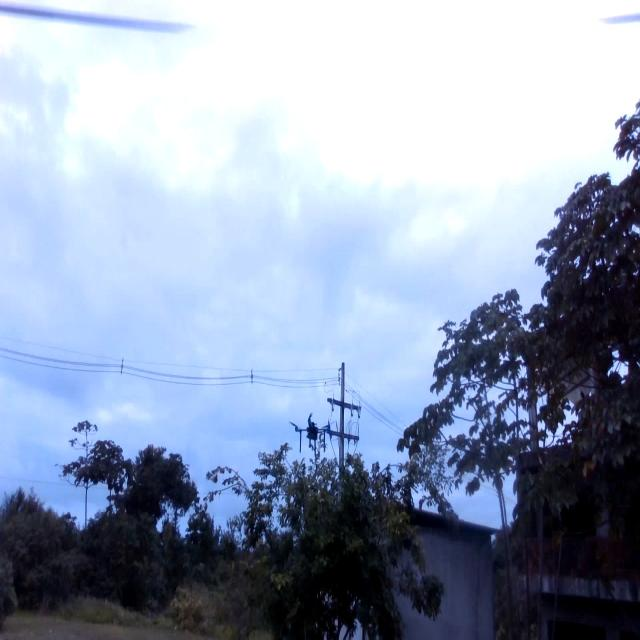-uav-: (289, 413, 333, 458)
